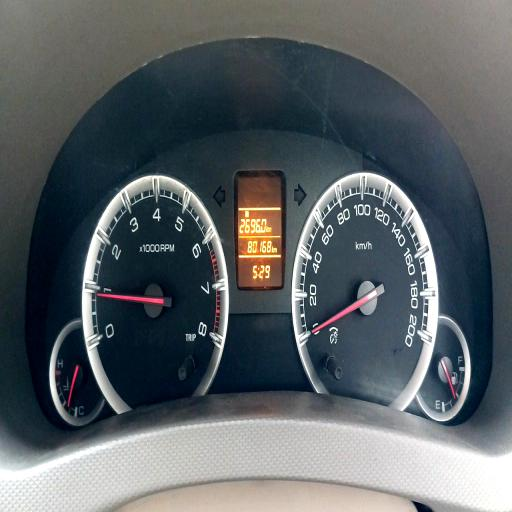tachometer: (83, 170, 229, 416)
